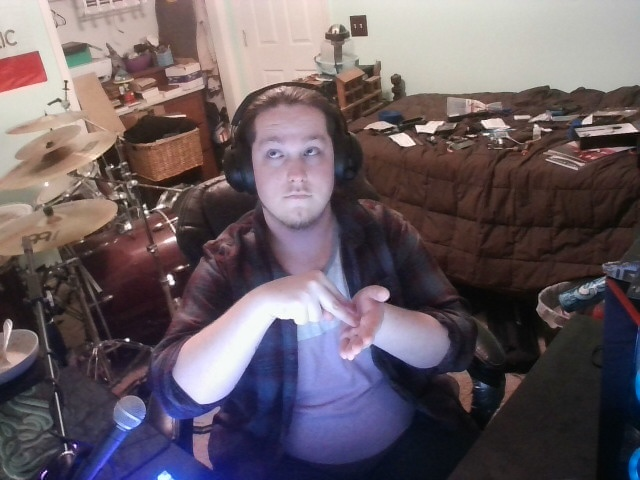fork: (258, 263, 399, 373)
